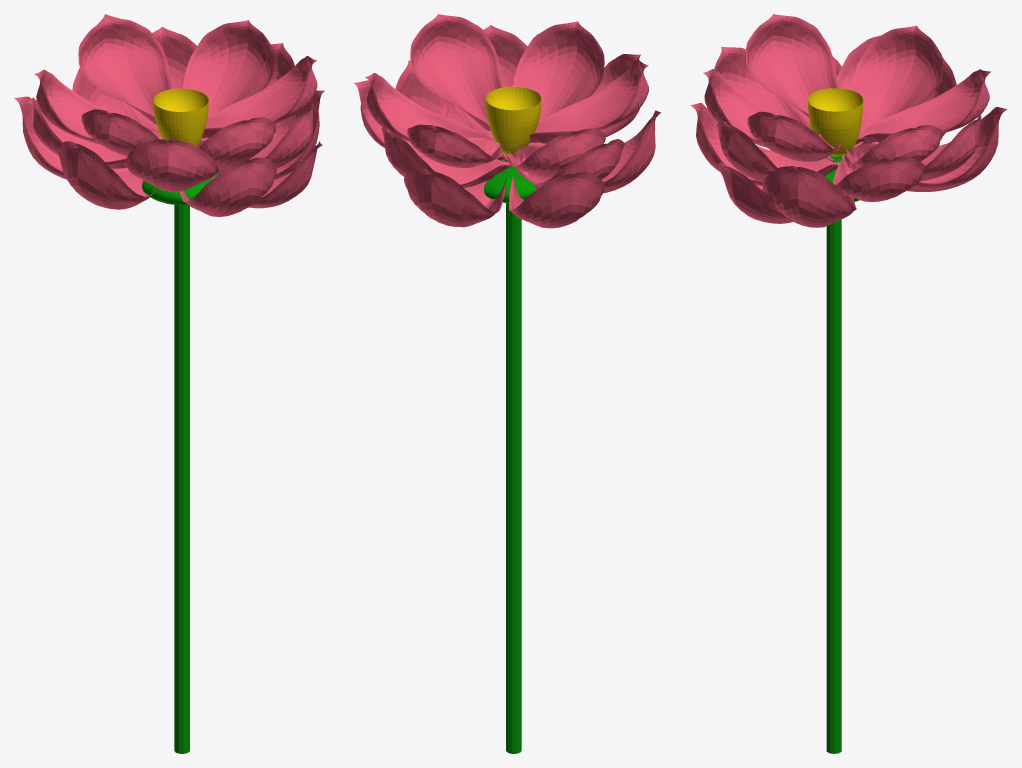
Rendered from Lotus080.fbx.
3 renders of one model, left to right at view 1: azimuth 30°, elevation 25°; view 2: azimuth 150°, elevation 25°; view 3: azimuth 270°, elevation 25°, orthographic.
Parts seen in each view (by area): view 1: pCylinder1, nurbsToPoly23, nurbsToPoly19, nurbsToPoly11, nurbsToPoly22, nurbsToPoly16, nurbsToPoly8, pSphere3, nurbsToPoly18, nurbsToPoly20, nurbsToPoly21, nurbsToPoly17 (+8 smaller); view 2: pCylinder1, nurbsToPoly22, nurbsToPoly18, nurbsToPoly21, nurbsToPoly10, nurbsToPoly12, nurbsToPoly19, pSphere3, nurbsToPoly23, nurbsToPoly20, nurbsToPoly17, nurbsToPoly11 (+6 smaller); view 3: pCylinder1, nurbsToPoly20, nurbsToPoly21, nurbsToPoly9, nurbsToPoly23, nurbsToPoly15, pSphere3, nurbsToPoly22, nurbsToPoly13, nurbsToPoly19, nurbsToPoly16, nurbsToPoly10 (+5 smaller).
Part boxes in pixels (x1,y1,x2,y2): pCylinder1: (174,205,189,753); nurbsToPoly23: (78,14,172,124); nurbsToPoly19: (182,20,274,116); nurbsToPoly11: (58,141,157,209); nurbsToPoly22: (202,56,317,138); nurbsToPoly16: (124,139,218,192); nurbsToPoly8: (179,157,276,216); pSphere3: (153,88,208,146); nurbsToPoly18: (198,117,275,169); nurbsToPoly20: (34,69,159,144); nurbsToPoly21: (81,109,175,156); nurbsToPoly17: (123,27,196,131); pCylinder1: (506,203,521,753); nurbsToPoly22: (410,14,502,131); nurbsToPoly18: (513,21,604,120); nurbsToPoly21: (529,60,648,143); nurbsToPoly10: (404,168,507,227); nurbsToPoly12: (509,166,604,228); nurbsToPoly19: (365,73,501,152); pSphere3: (486,86,541,155); nurbsToPoly23: (407,124,503,167); nurbsToPoly20: (508,128,605,177); nurbsToPoly17: (381,126,511,187); nurbsToPoly11: (601,110,660,193); pCylinder1: (826,219,841,753); nurbsToPoly20: (851,25,942,144); nurbsToPoly21: (746,14,838,117); nurbsToPoly9: (762,166,856,227); nurbsToPoly23: (856,69,990,142); nurbsToPoly15: (833,154,925,201); pSphere3: (807,88,863,156); nurbsToPoly22: (747,111,841,161); nurbsToPoly13: (717,120,839,182); nurbsToPoly19: (846,124,942,167); nurbsToPoly16: (714,46,834,162); nurbsToPoly10: (906,107,1006,191).
Bounding box in the file's own units: 19.08 × 48.41 × 20.26.
